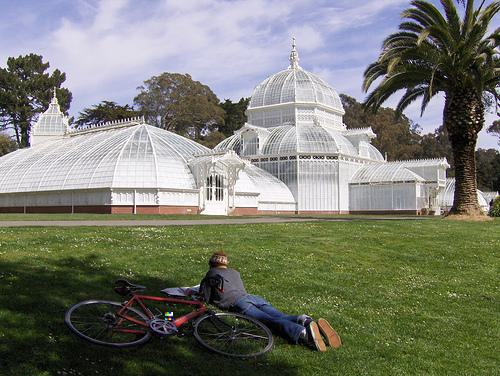car: (64, 274, 275, 359)
person: (184, 250, 342, 353)
